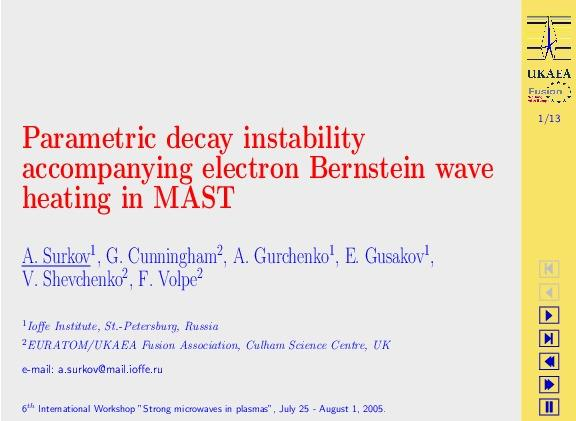paragraph: (11, 235, 504, 418)
title: (13, 113, 508, 224)
